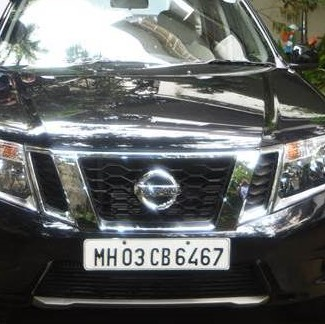MH03CB6467: (82, 237, 230, 270)
